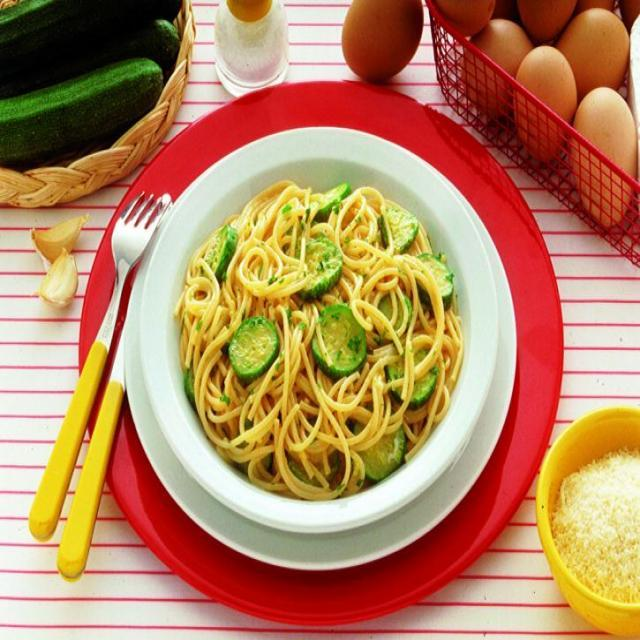Pasta with carbonara sauce: (156, 148, 578, 545)
